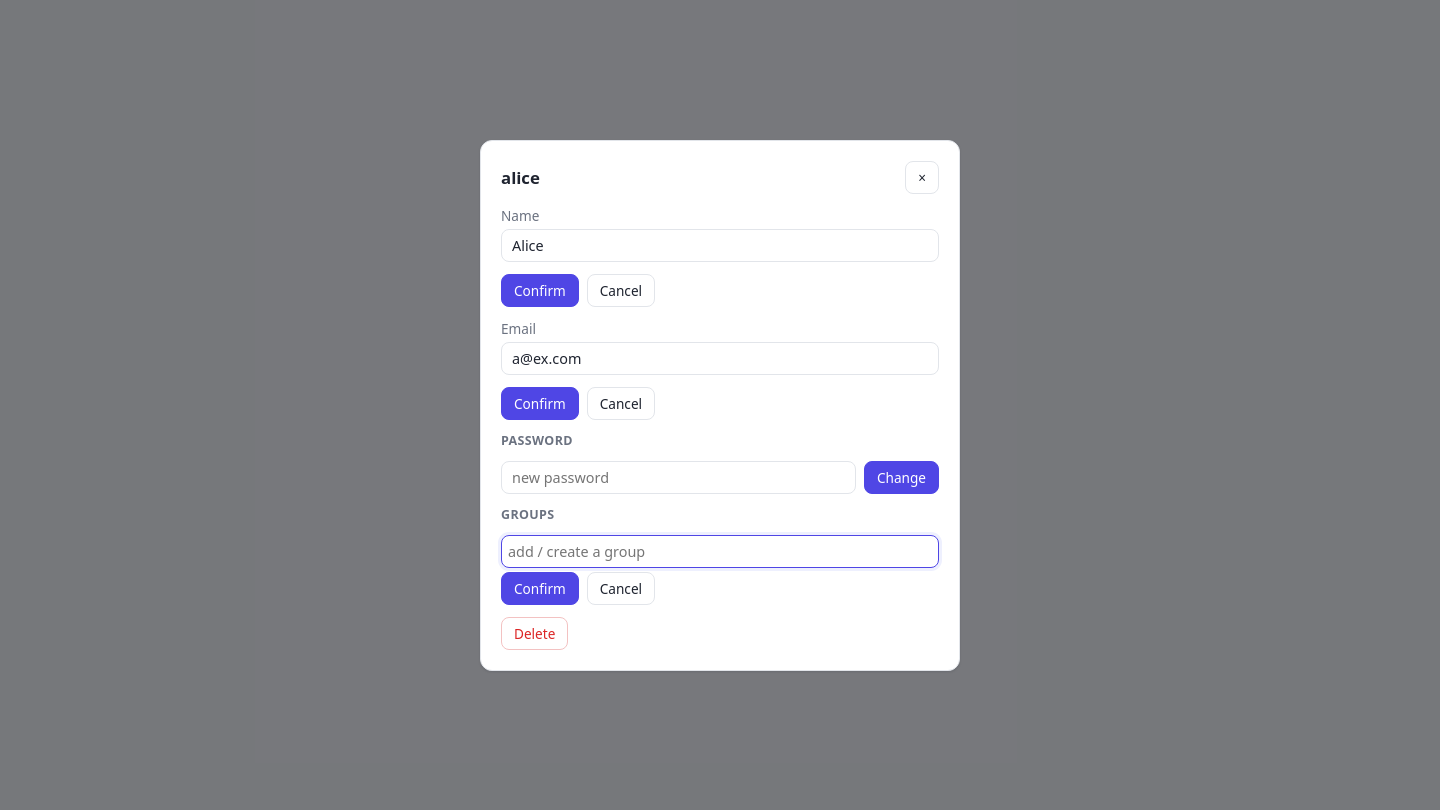
Test: delete shows error on failure
The image size is (1440, 810).
Click the button with test id "delete-button-alice": (535, 633) [501,616,568,650]
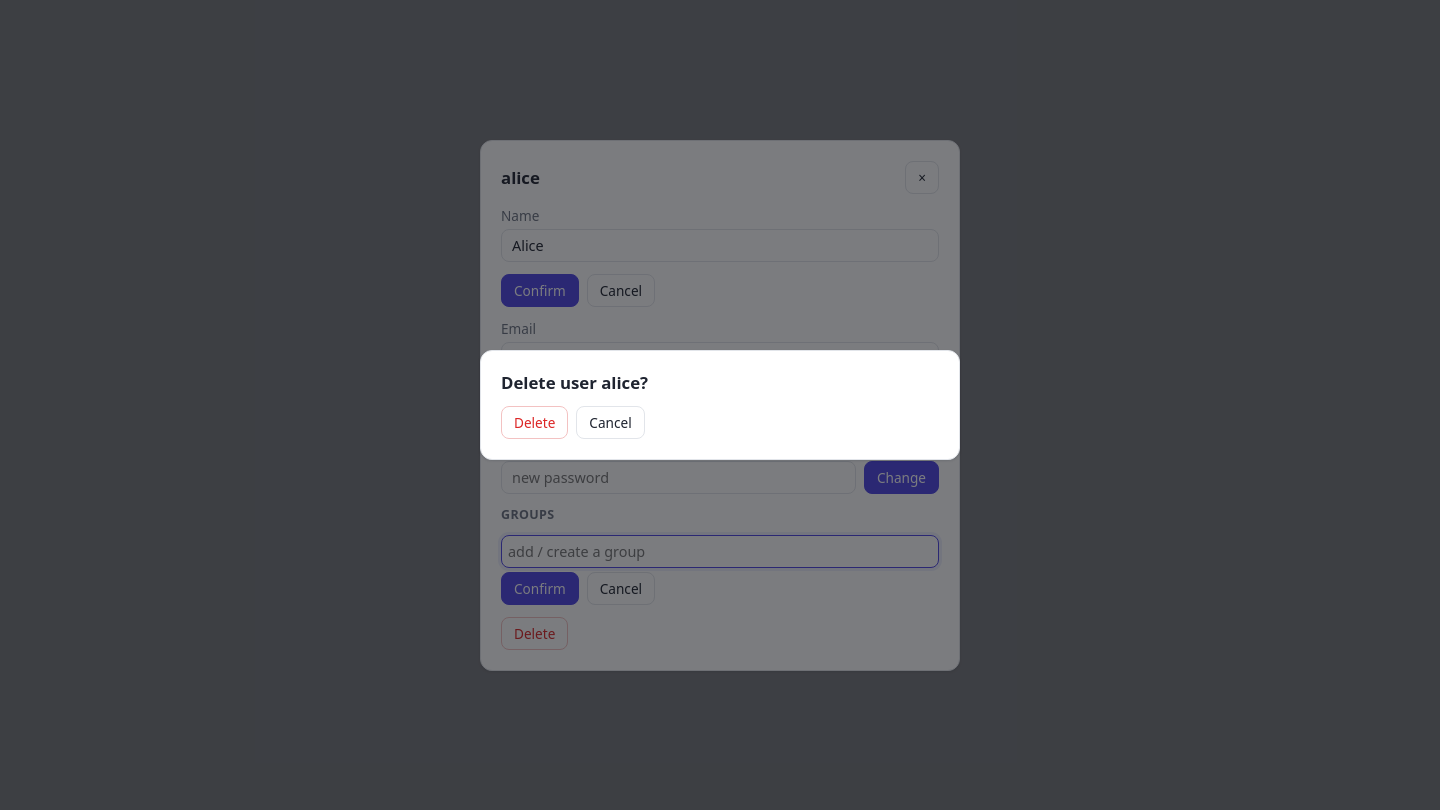
Click the button with test id "confirm-yes": (535, 422) [501,406,568,439]
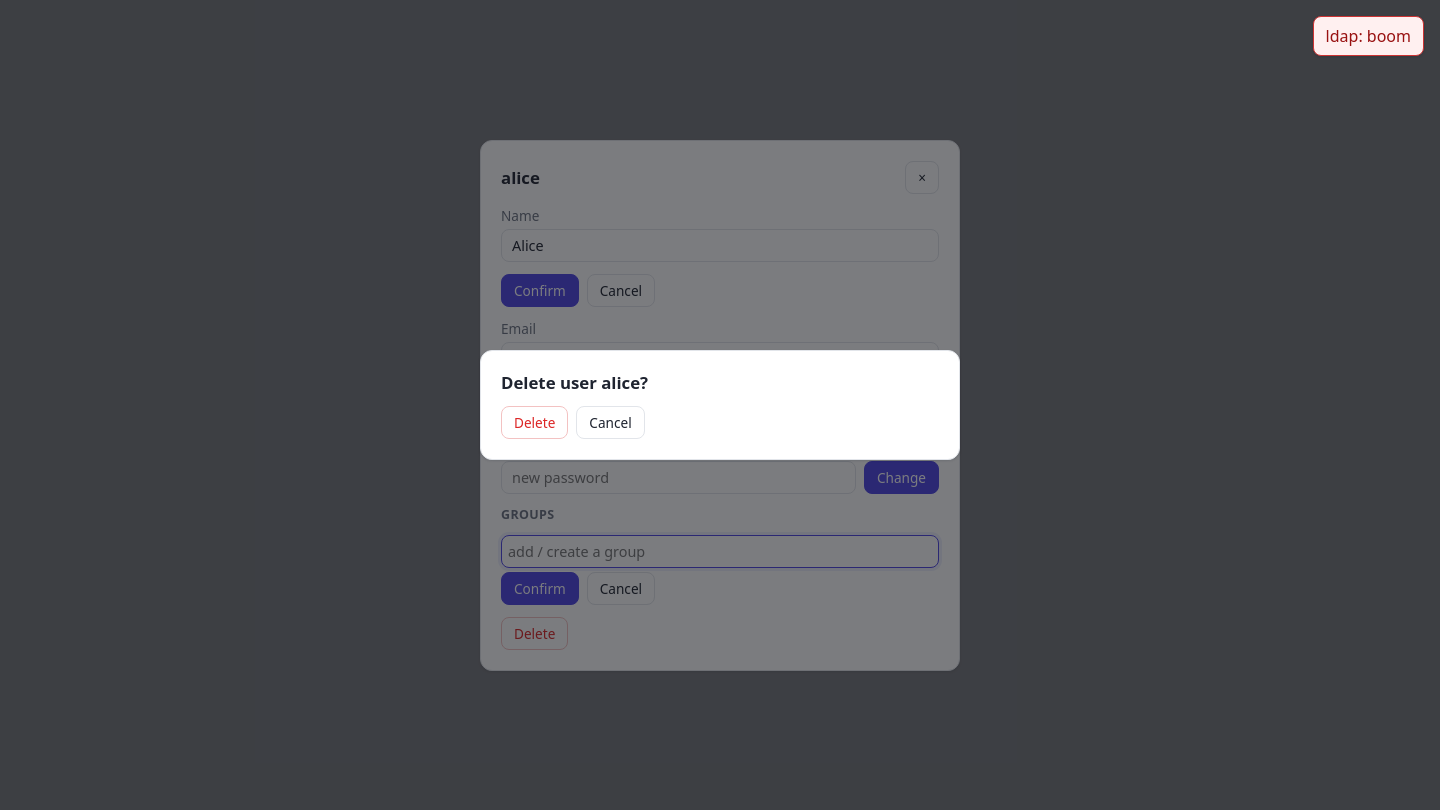
Now the text with test id "toast-error" reads "ldap: boom", box [1326,25,1411,47]
